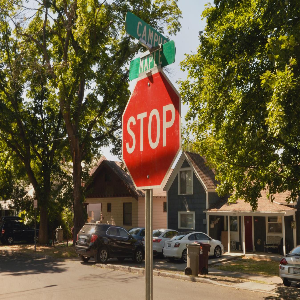STOP_SIGN: (121, 69, 181, 189)
